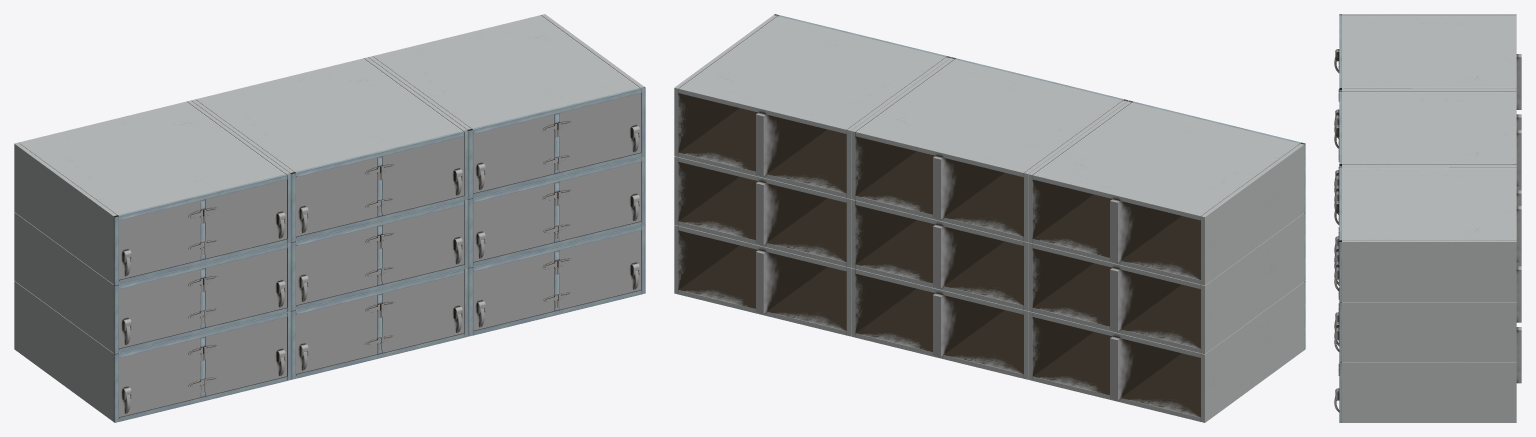
The model's file is morgue_refrigerator-12mb.glb.
3 renders of one model, left to right at view 1: azimuth 30°, elevation 25°; view 2: azimuth 150°, elevation 25°; view 3: azimuth 270°, elevation 25°, orthographic. The views are drawn at different scales.
Visible parts, largest first — view 1: Cloner; view 2: Cloner; view 3: Cloner.
Part boxes in pixels (x1,y1,x2,y2): Cloner: [14, 14, 645, 422]; Cloner: [674, 14, 1305, 422]; Cloner: [1334, 14, 1521, 422].
Bounding box in the file's own units: 6.55 × 2.43 × 2.27.
2 materials, 2 textured.
